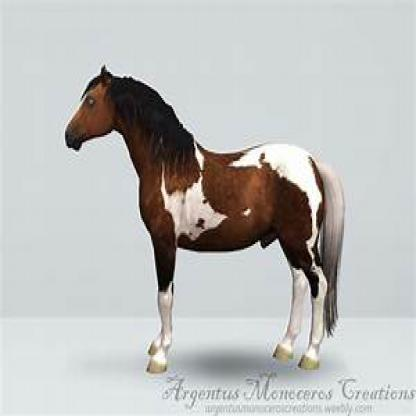horse: (65, 63, 345, 370)
